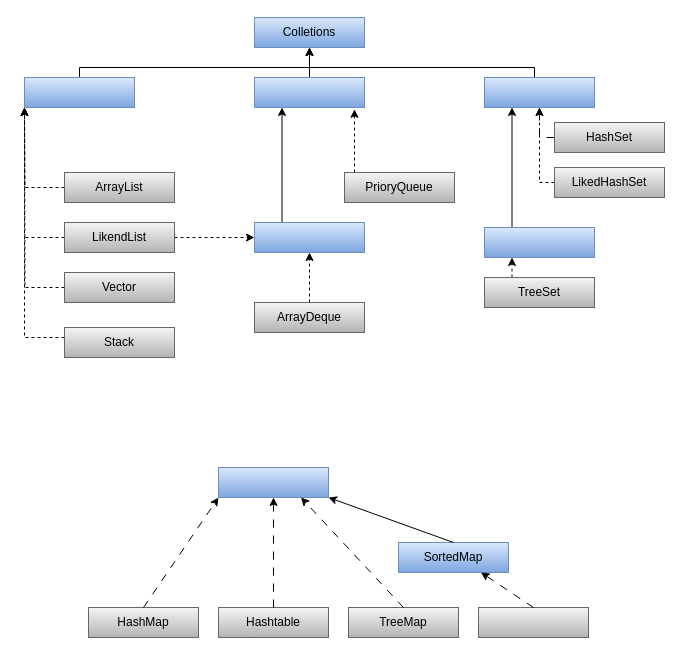
Some shapes in this 682 by 655 pixel diagram are drawn without their labels. The centre of each missing label's shape, as x and y in pixels:
"Deque" goes at (309,237).
"LikedHashMap" goes at (533,622).
"List" goes at (79,92).
"Map" goes at (273,482).
"Queue" goes at (309,92).
"Set" goes at (539,92).
"SortedSet" goes at (539,242).
